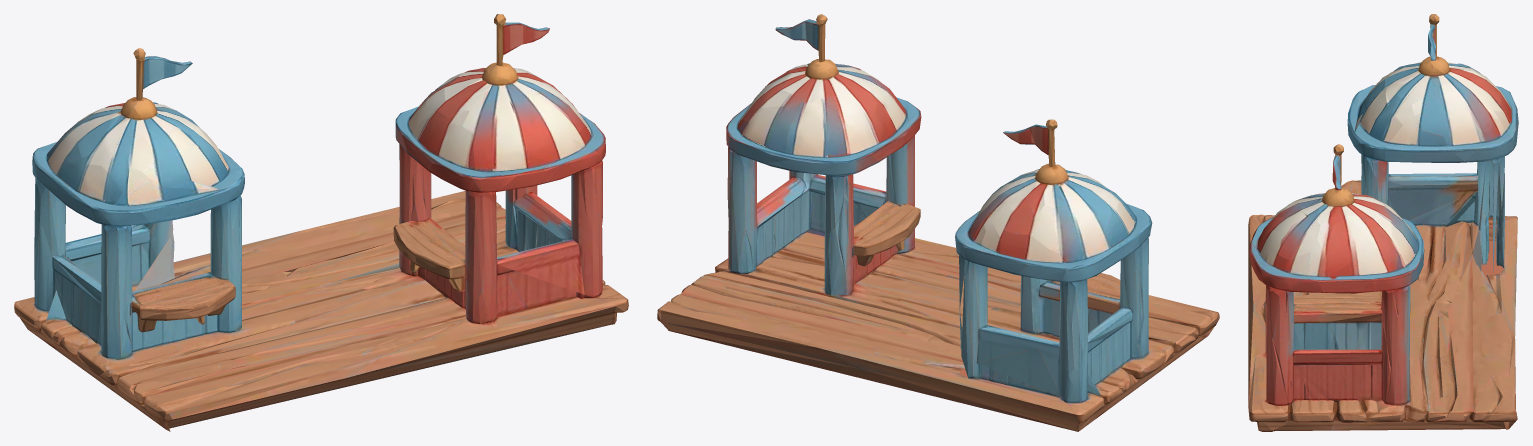
File: team-booths.glb
3 views of the same model, side by side, from view 1: azimuth 30°, elevation 25°; view 2: azimuth 150°, elevation 25°; view 3: azimuth 270°, elevation 25° (orthographic). The views are drawn at different scales.
Bounding box in the file's own units: 1.9 × 1.14 × 1.08.
1 material, 1 textured.
